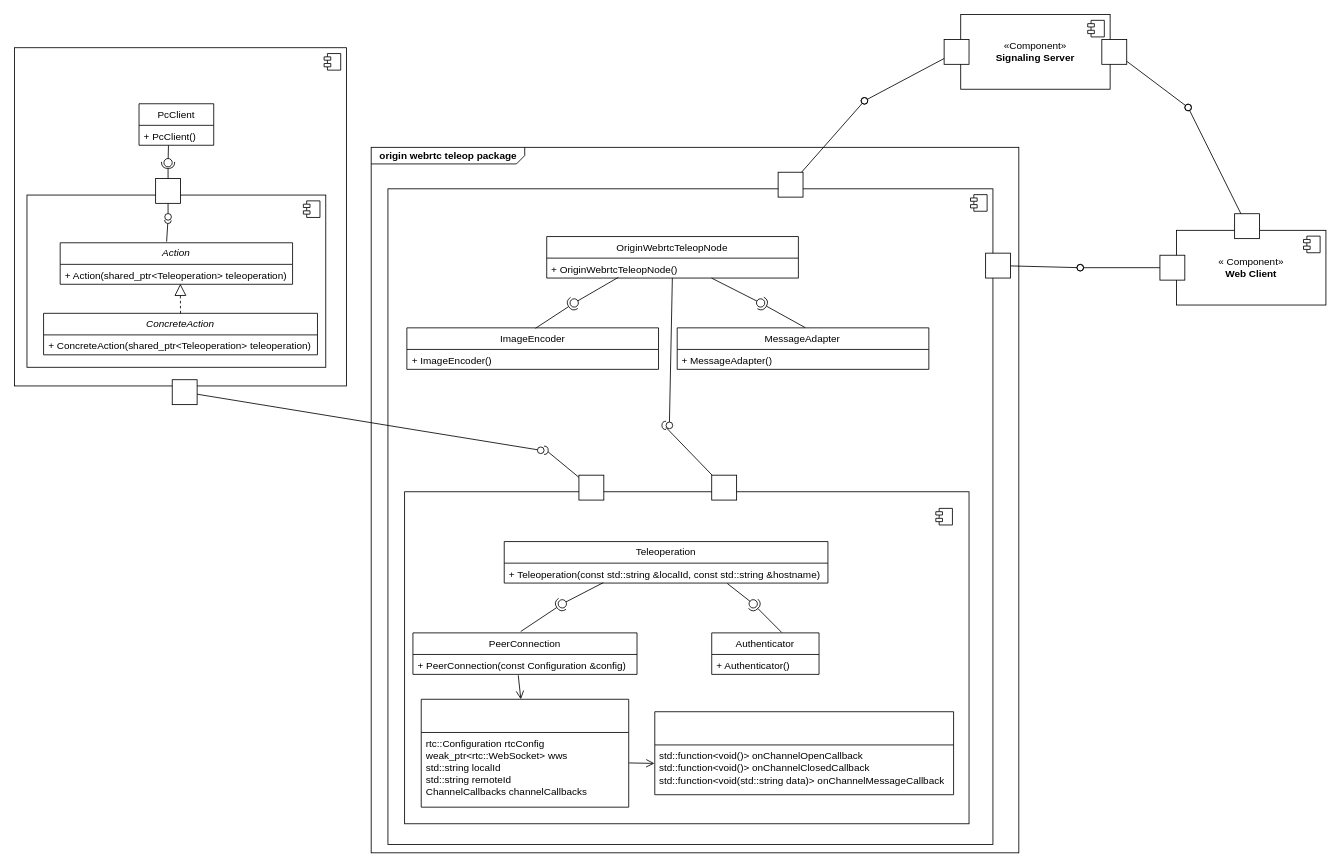
This 1340x867 diagram has some shape labels left out. Here are the shapes that lost their labels. From the top down, the box of each, then its label:
(14, 47, 347, 386): «Component» PC Client
(26, 194, 326, 367): «Component» teleop actions
(387, 188, 993, 845): «component» origin webrtc teleop
(404, 491, 969, 824): «component» teleoperation
(420, 698, 629, 807): <<struct>> PeerConnection::Configuration
(654, 711, 954, 795): <<struct>> PeerConnection::ChannelCallbacks
